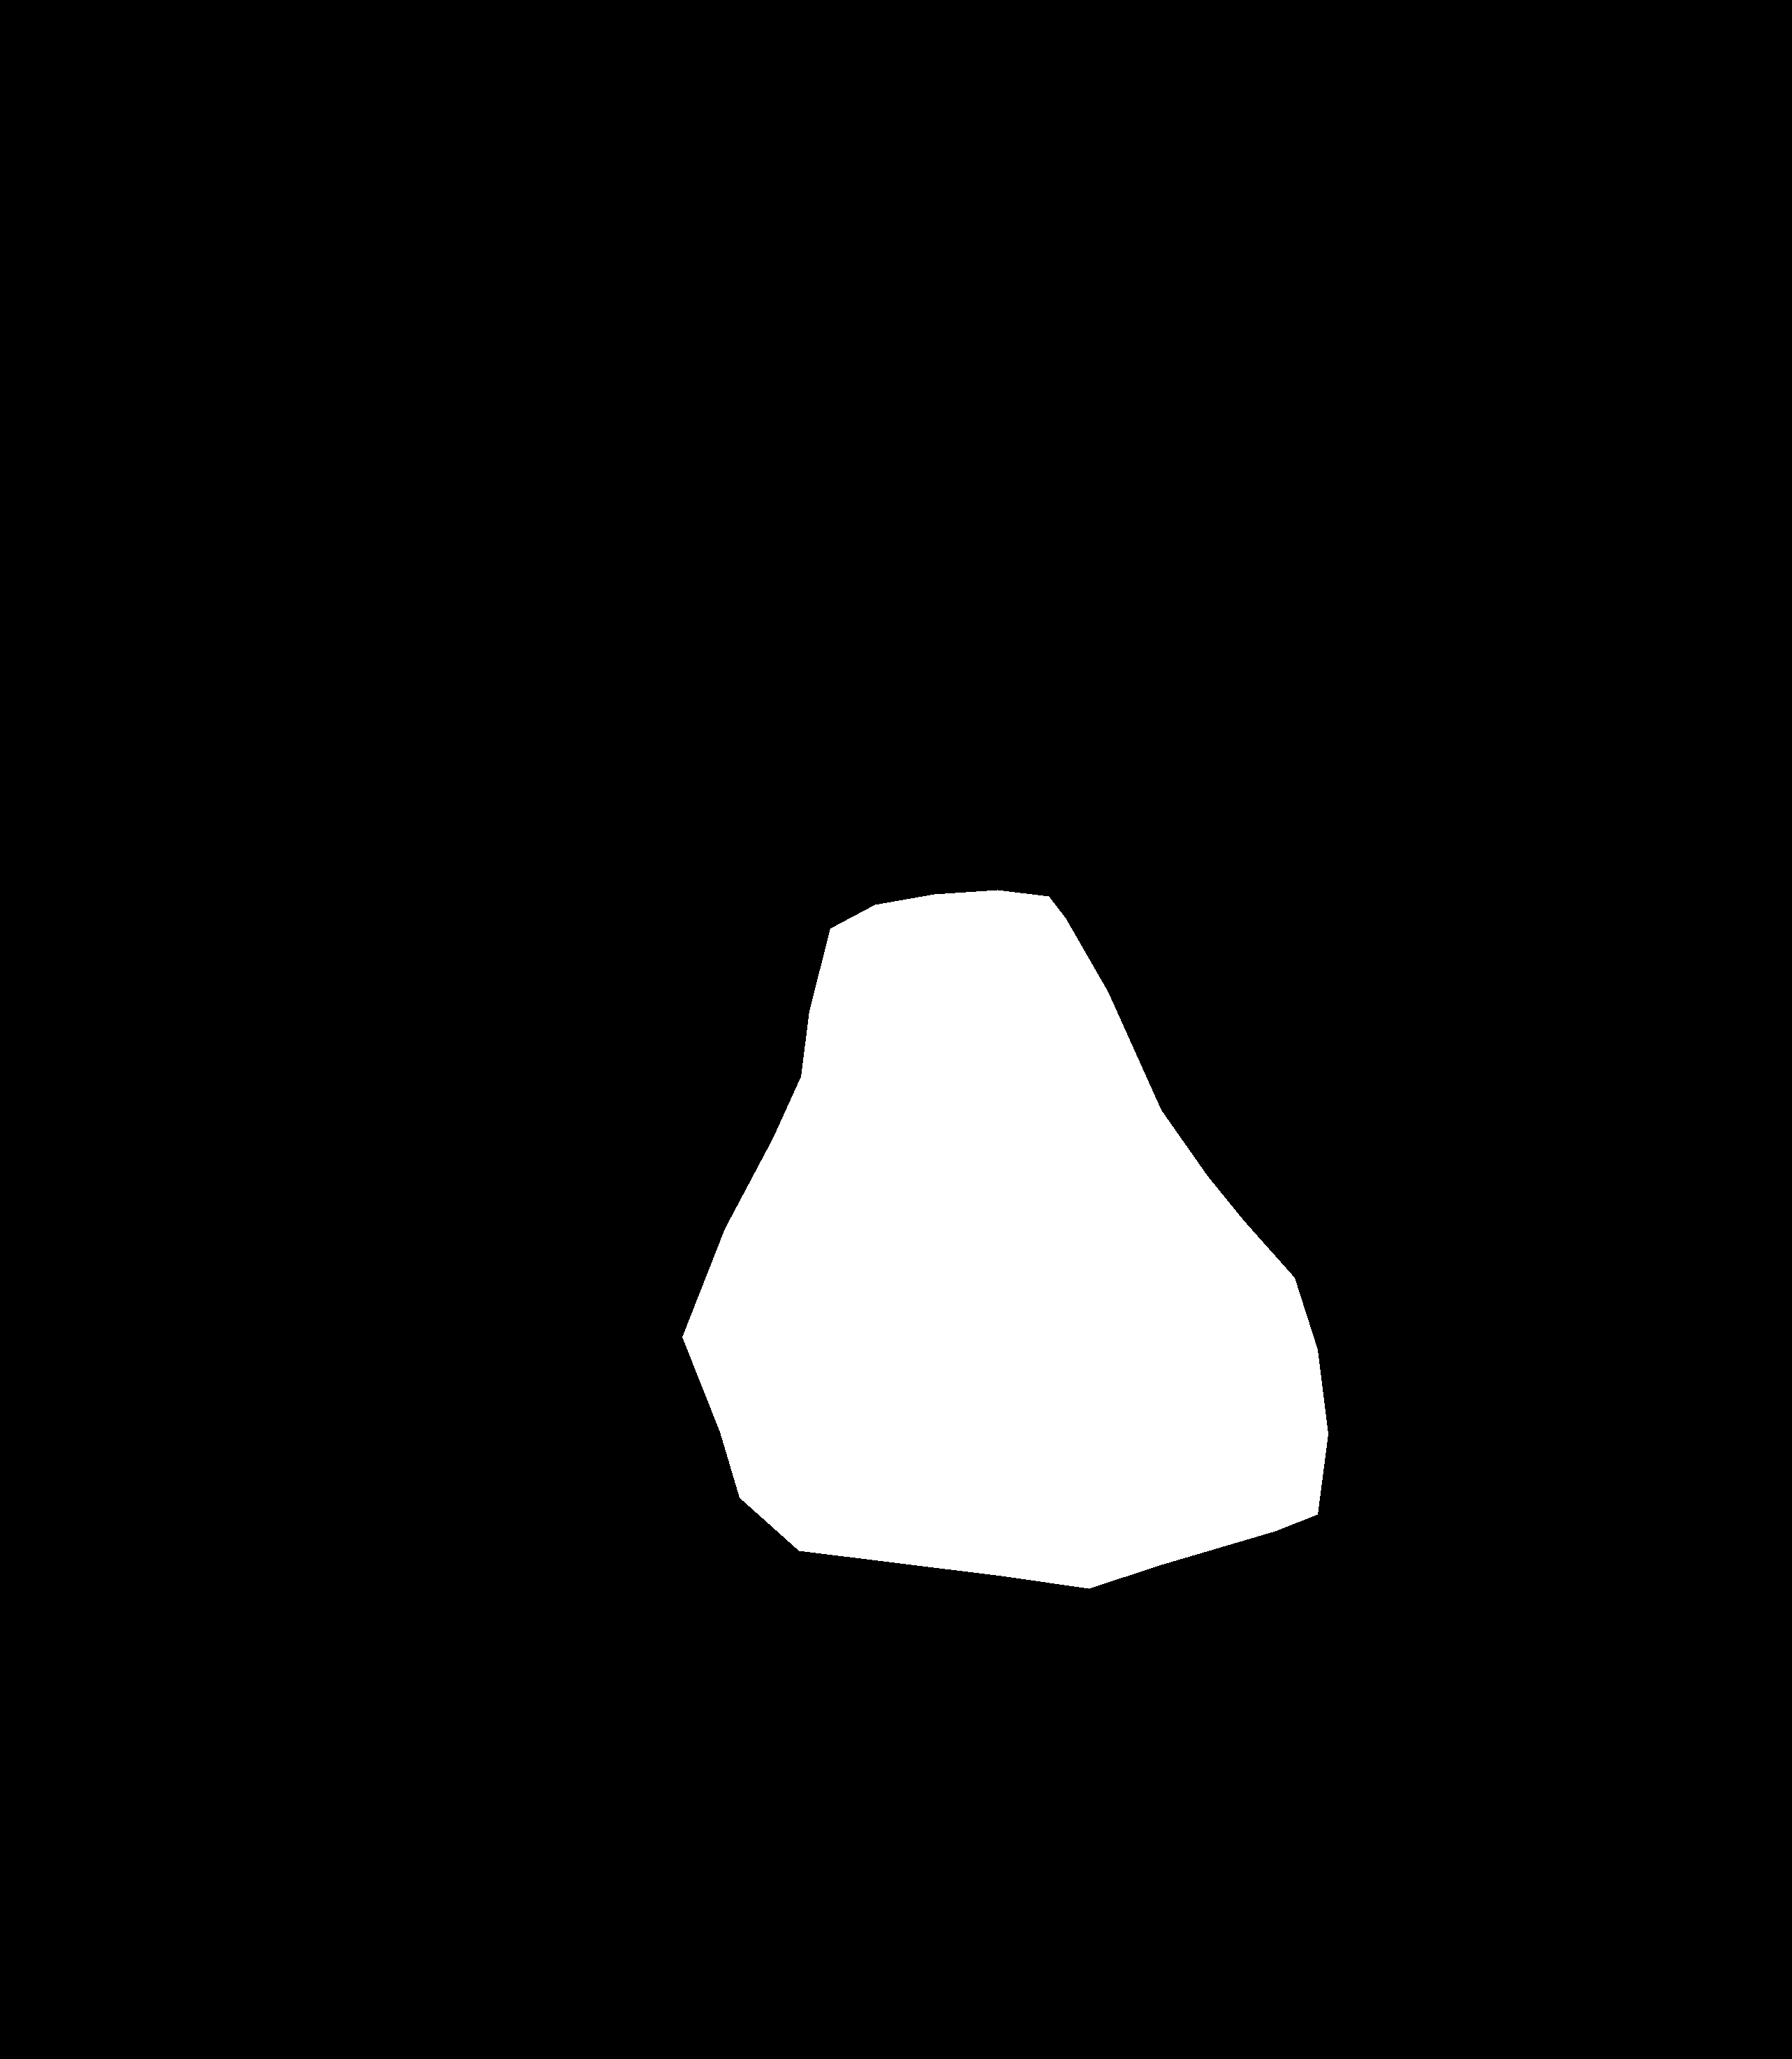heart: (682, 889, 1328, 1588)
left_lung: (280, 208, 896, 1677)
right_lung: (1055, 214, 1615, 1721)
